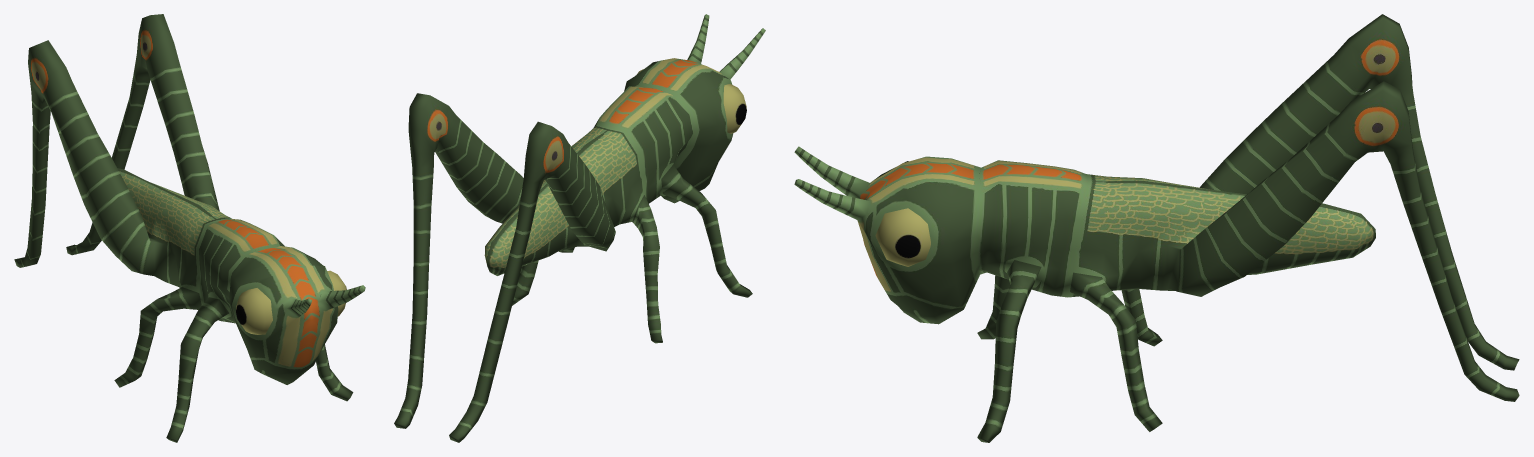
File: Grasshopper.fbx
The picture shows the model from 3 angles, left to right: view 1: azimuth 30°, elevation 25°; view 2: azimuth 150°, elevation 25°; view 3: azimuth 270°, elevation 25°; orthographic projection. The views are drawn at different scales.
Visible parts, largest first — view 1: grasshopperBody, grasshopperEye; view 2: grasshopperBody, grasshopperEye; view 3: grasshopperBody, grasshopperEye.
Boxes of the visible parts, x1,y1,x2,y2 form: grasshopperBody: [14, 14, 365, 442]; grasshopperEye: [236, 270, 346, 334]; grasshopperBody: [394, 14, 765, 442]; grasshopperEye: [637, 69, 746, 133]; grasshopperBody: [794, 14, 1519, 442]; grasshopperEye: [875, 208, 930, 266].
Bounding box in the file's own units: 7.36 × 10.35 × 20.
1 material, 1 textured.
